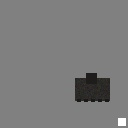supply_truck: (75, 78, 110, 101)
